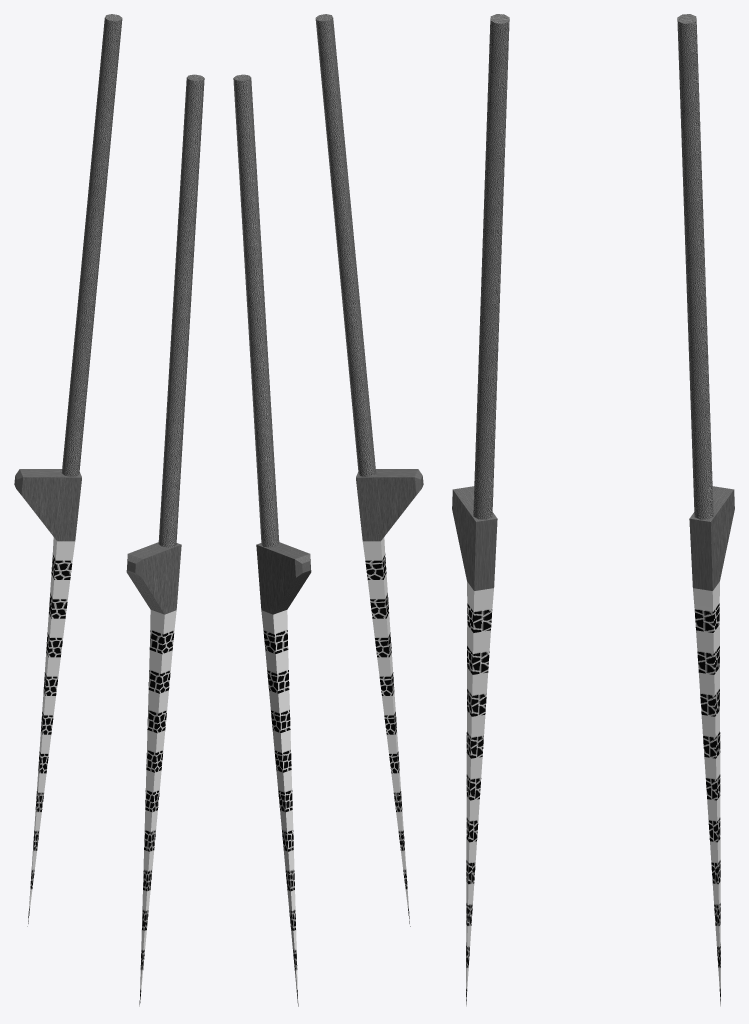
File: step.fbx
3 renders of one model, left to right at view 1: azimuth 30°, elevation 25°; view 2: azimuth 150°, elevation 25°; view 3: azimuth 270°, elevation 25°, orthographic. The views are drawn at different scales.
Parts seen in each view (by area): view 1: handel, spike001, spike; view 2: handel, spike001, spike; view 3: handel, spike001, spike.
Boxes of the visible parts, x1,y1,x2,y2 form: handel: [62, 14, 204, 547]; spike001: [27, 537, 176, 1006]; spike: [14, 469, 181, 614]; handel: [233, 14, 375, 547]; spike001: [261, 537, 410, 1006]; spike: [256, 469, 423, 614]; handel: [473, 14, 713, 519]; spike001: [466, 581, 720, 1006]; spike: [452, 486, 734, 590].
Bounding box in the file's own units: 10.38 × 99.6 × 24.76.
